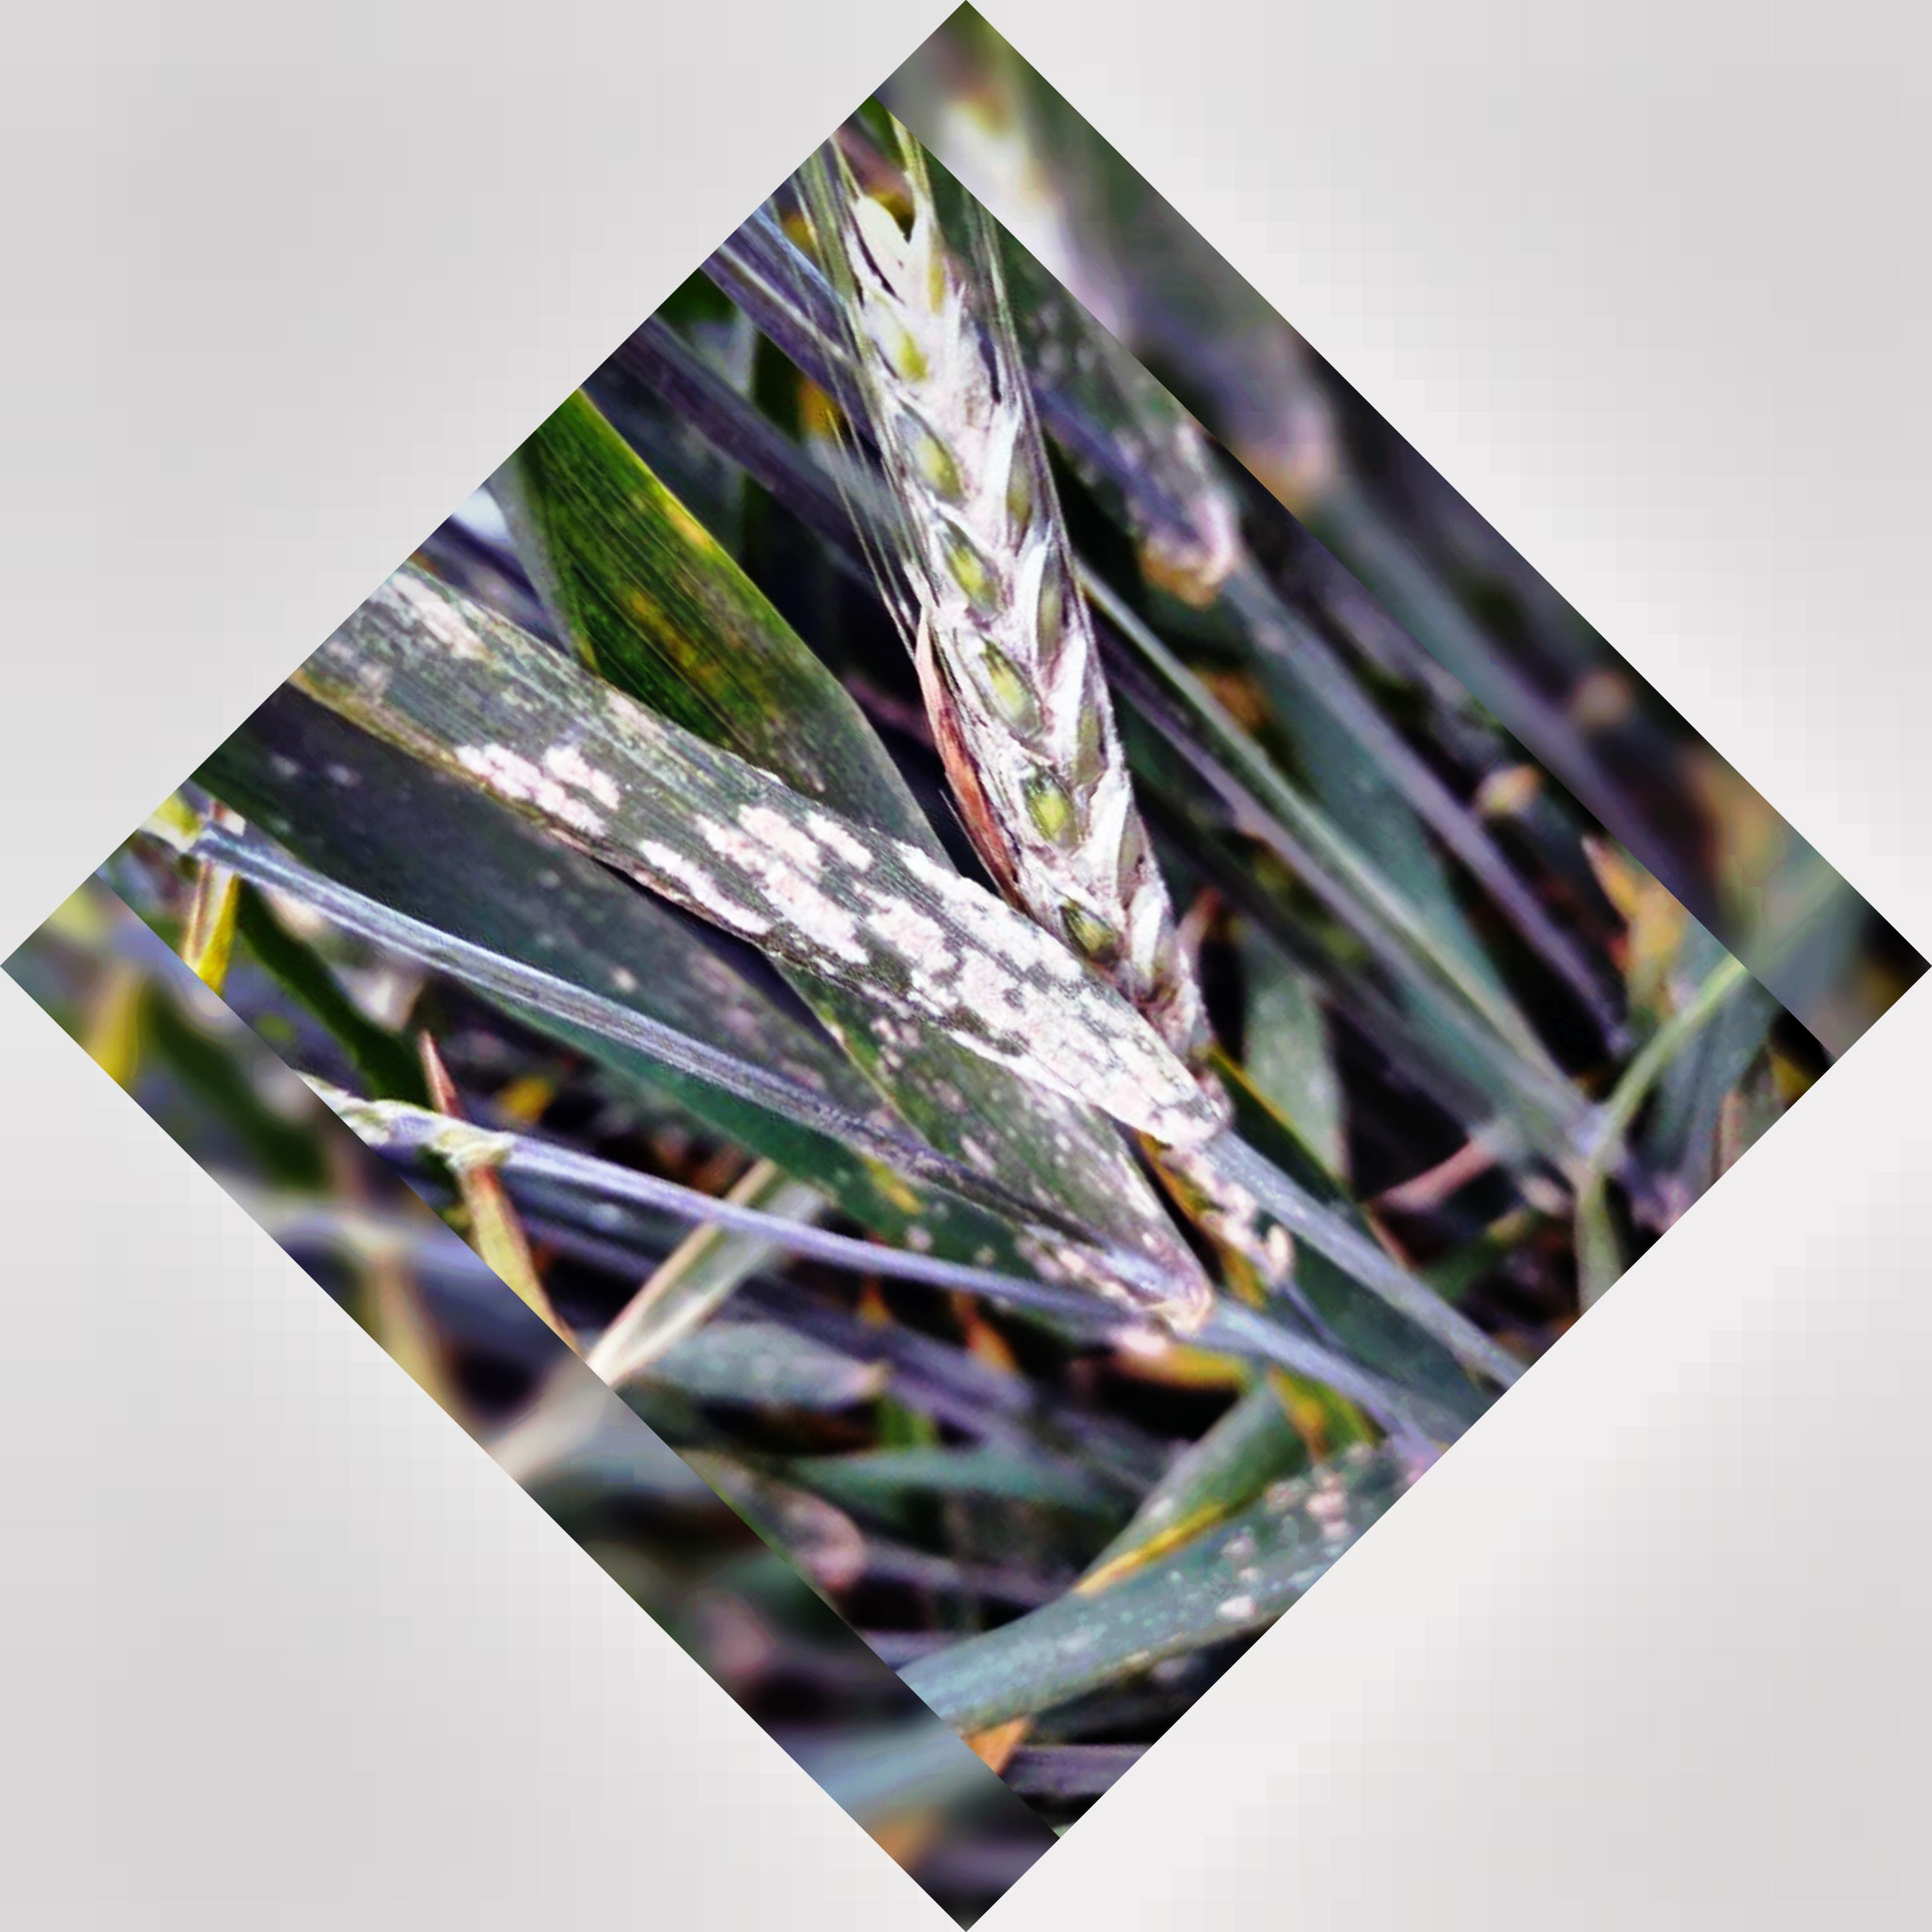Powdery Mildew: (492, 738, 1139, 1104)
